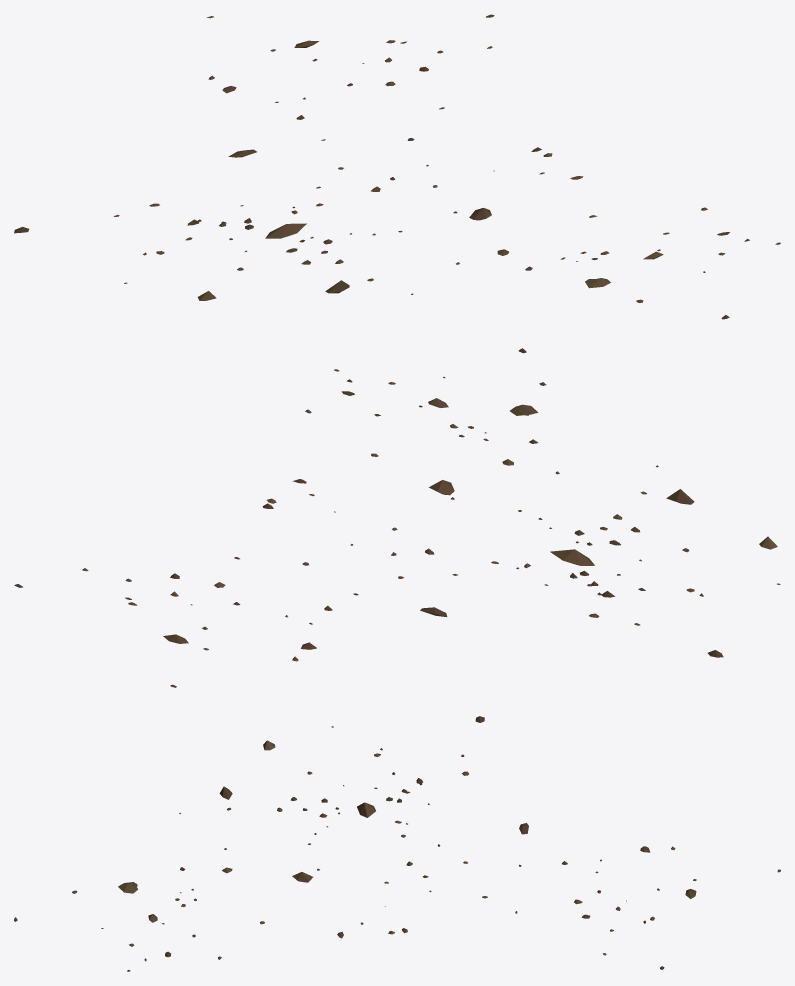
File: ground-1-3.glb
3 renders of one model, top to bottom at view 1: azimuth 30°, elevation 25°; view 2: azimuth 150°, elevation 25°; view 3: azimuth 270°, elevation 25°, orthographic. The views are drawn at different scales.
Parts seen in each view (by area): view 1: ground-1-3; view 2: ground-1-3; view 3: ground-1-3.
Boxes of the visible parts, <box> form: ground-1-3: <box>14,14,780,319</box>; ground-1-3: <box>14,348,780,687</box>; ground-1-3: <box>14,716,780,971</box>.
Bounding box in the file's own units: 13.14 × 0.4777 × 16.71.
